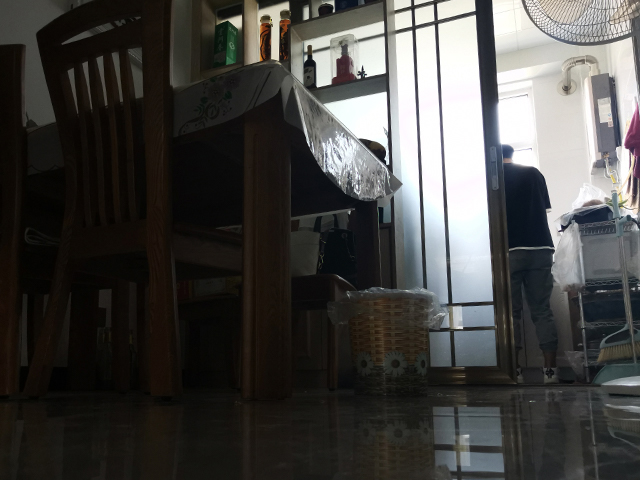stool: (18, 1, 249, 404)
table: (1, 54, 408, 408)
trashcan: (343, 287, 435, 400)
